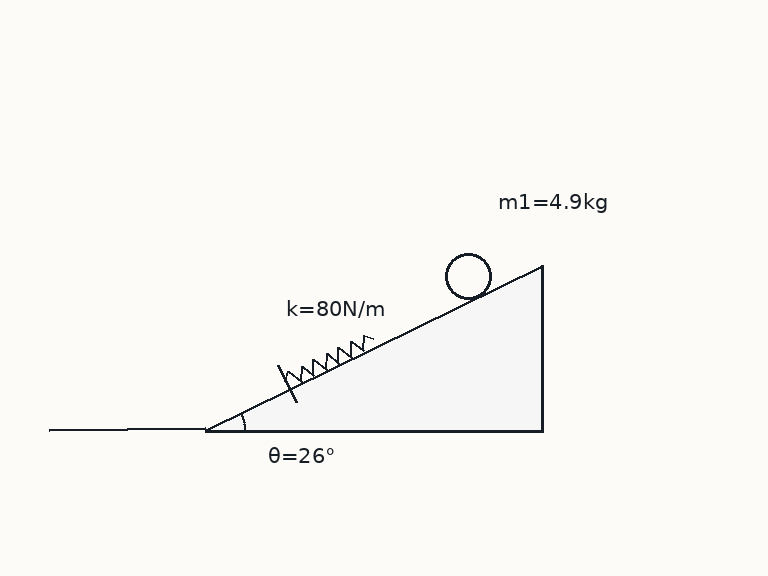ball: (443, 251, 493, 301)
ramp: (203, 264, 544, 432)
spring: (283, 333, 375, 383)
